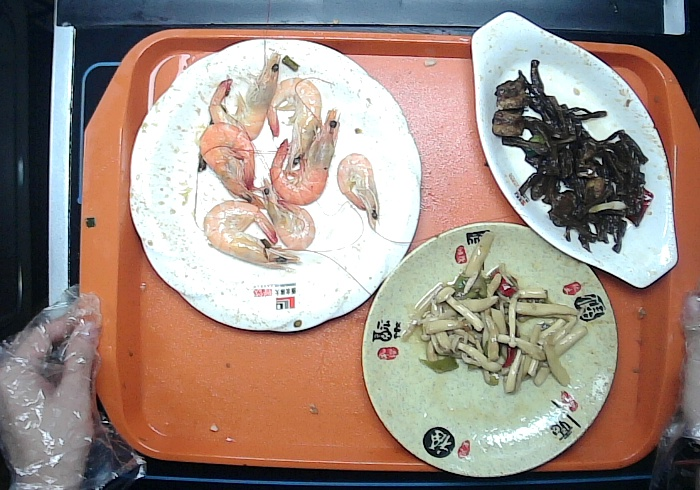NLDX-Bai_Zhe_Yuan_Pan: (128, 36, 426, 339)
NLDX-Fu_Zi_Yuan_Pan: (355, 218, 624, 487)
NLDX-Yu_Pan: (462, 5, 684, 295)
